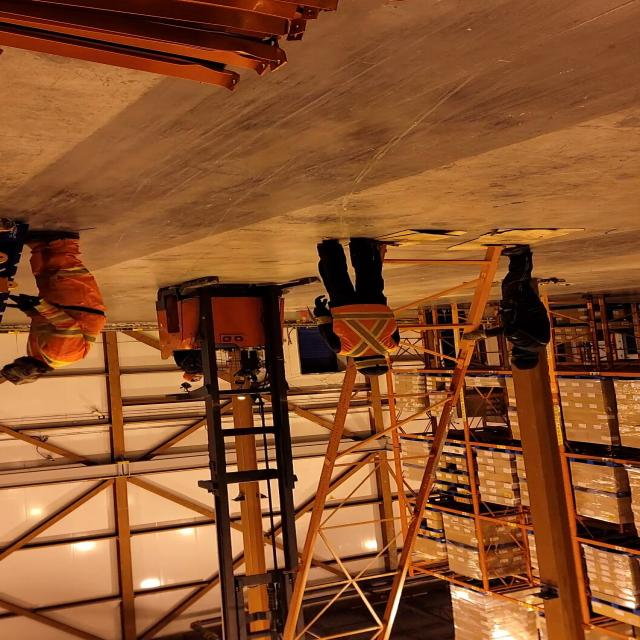forklift: (148, 271, 324, 494)
human: (0, 225, 108, 389), (306, 236, 406, 378), (458, 242, 554, 371), (162, 348, 220, 384)
objectofinterest: (280, 244, 508, 640), (0, 221, 45, 340), (437, 224, 591, 255), (352, 225, 468, 252)
